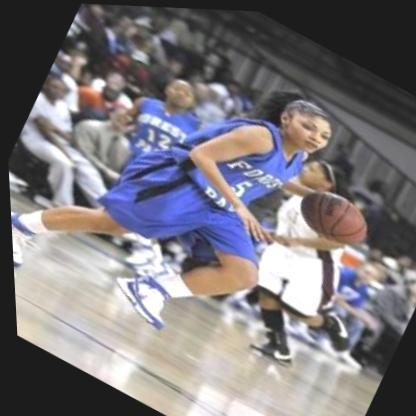basketball: (289, 177, 375, 253)
